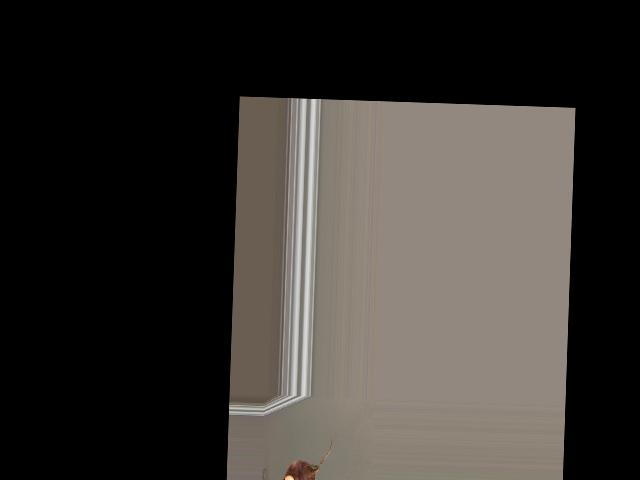beet: (261, 435, 331, 480)
